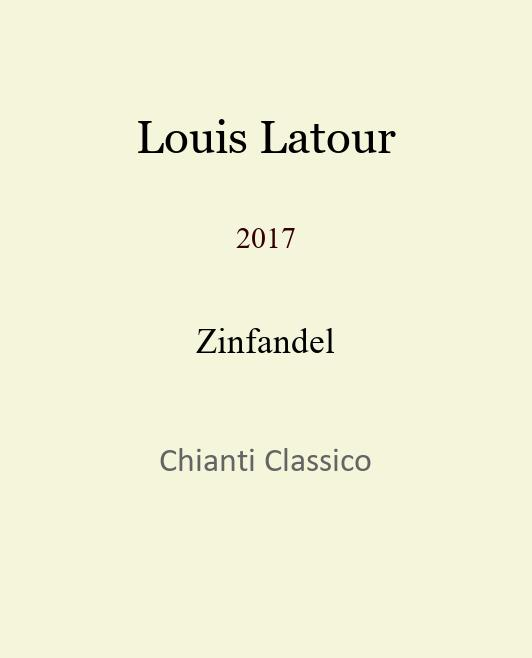brand: (136, 110, 396, 144)
region: (159, 445, 372, 468)
variety: (196, 321, 335, 346)
vintage: (236, 221, 296, 241)
